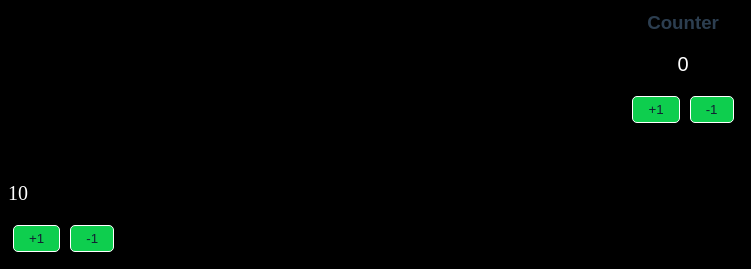
Counter Component › Debe establecer un valor por defecto en 10 y probar que decremente en 9
Click the button "-1" below "10" at (92, 239), box top-left (70, 225), bottom-right (114, 252)
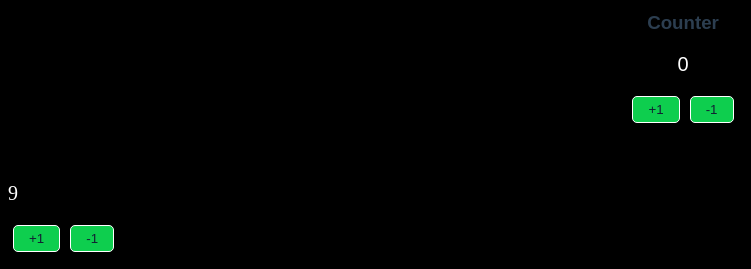
Expected: the text "9" is shown, top-left (8, 182), bottom-right (18, 204)
